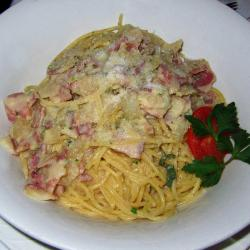carbonara: (9, 22, 235, 222)
